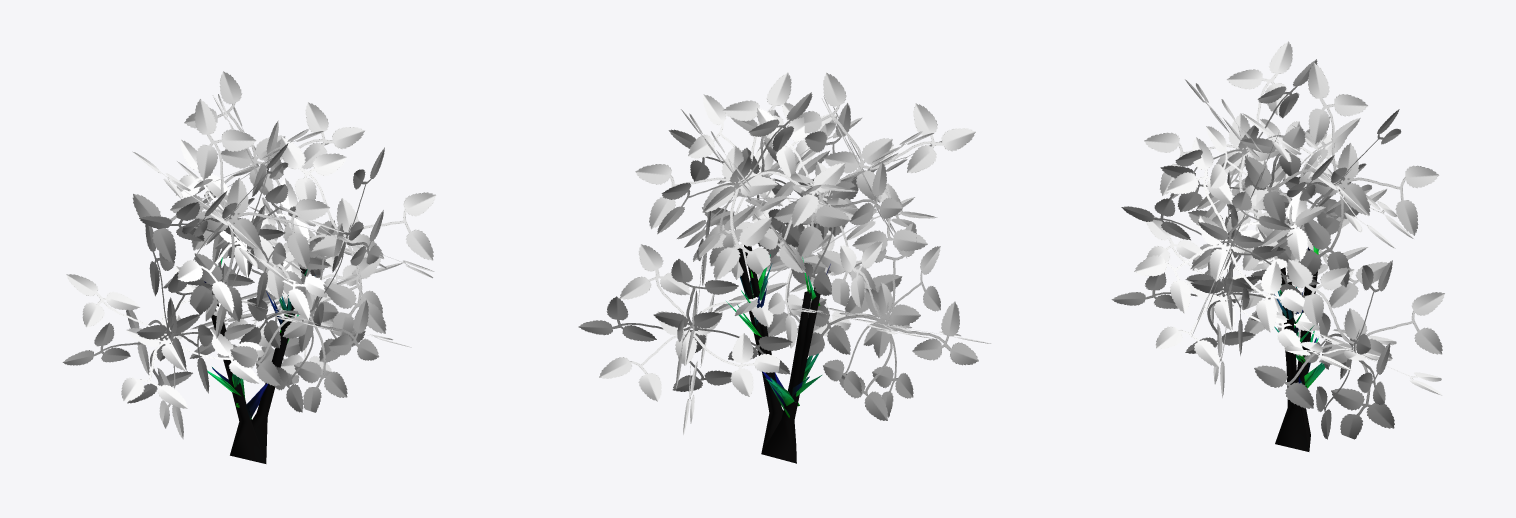
File: Bush_002_Strawberry.fbx
The picture shows the model from 3 angles, left to right: view 1: azimuth 30°, elevation 25°; view 2: azimuth 150°, elevation 25°; view 3: azimuth 270°, elevation 25°; orthographic projection. The views are drawn at different scales.
Parts seen in each view (by area): view 1: strawberrybush_1, _0; view 2: strawberrybush_1, _0; view 3: strawberrybush_1, _0.
Boxes of the visible parts, x1=… form: strawberrybush_1: x1=62, y1=71, x2=436, y2=439; _0: x1=204, y1=257, x2=315, y2=463; strawberrybush_1: x1=578, y1=72, x2=991, y2=435; _0: x1=726, y1=245, x2=830, y2=463; strawberrybush_1: x1=1111, y1=41, x2=1444, y2=439; _0: x1=1274, y1=246, x2=1324, y2=451.
Size of the model in its own units: 150 by 132 by 131.
